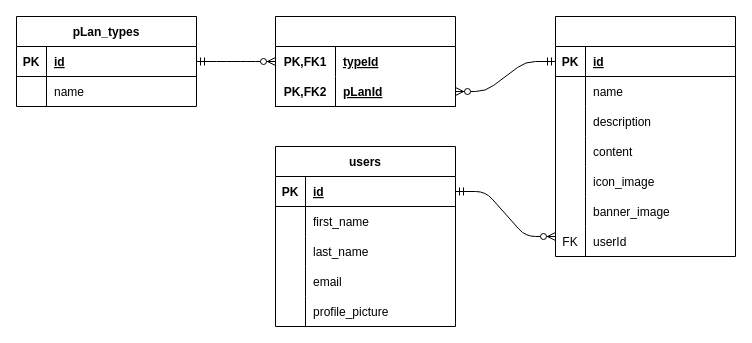
Some shapes in this 752 by 343 pixel diagram are drawn without their labels. Here are the shapes that lost their labels. From the top down, the box of each, then its label:
(274, 16, 456, 106): pLans_types
(554, 16, 736, 256): plans
